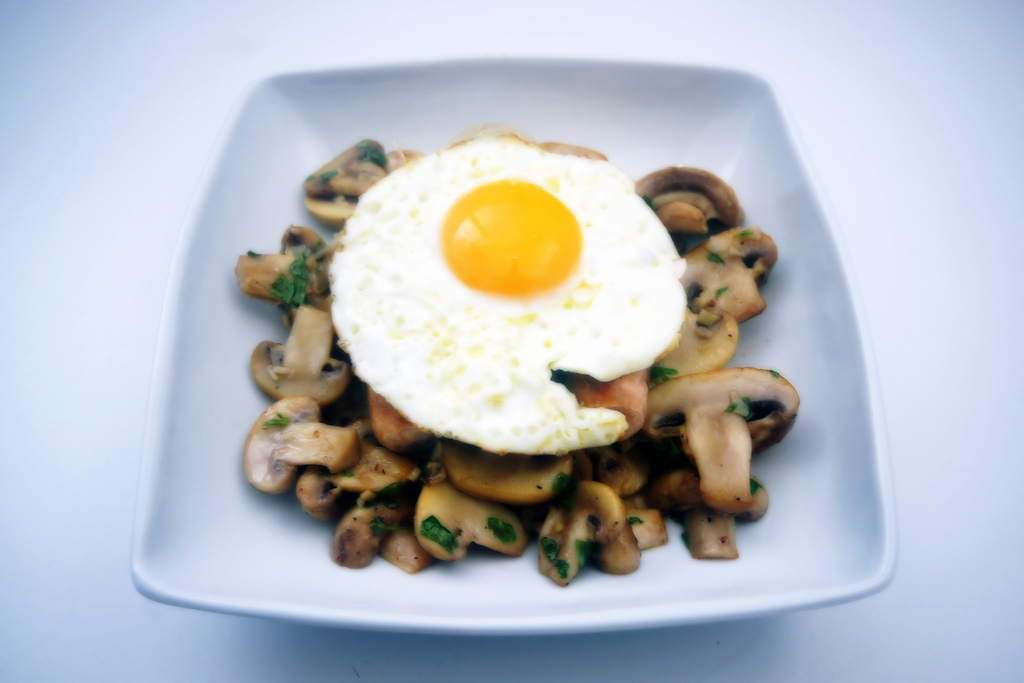fried egg: (342, 144, 678, 436)
